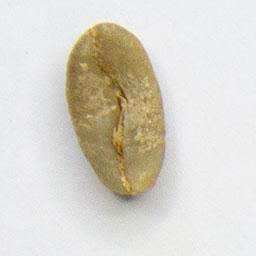longberry: (62, 19, 171, 200)
